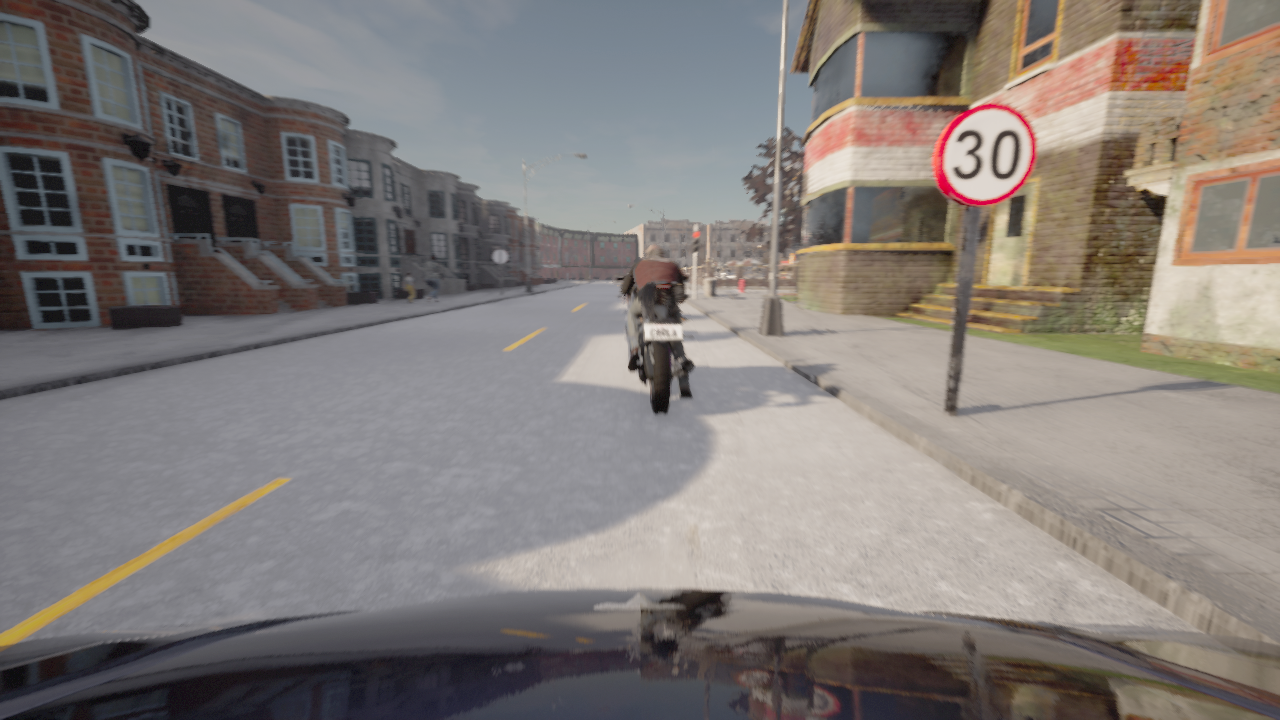cyclist: (0, 588, 1279, 719), (614, 274, 694, 413)
pedestrian: (423, 255, 444, 303), (403, 271, 415, 303)
